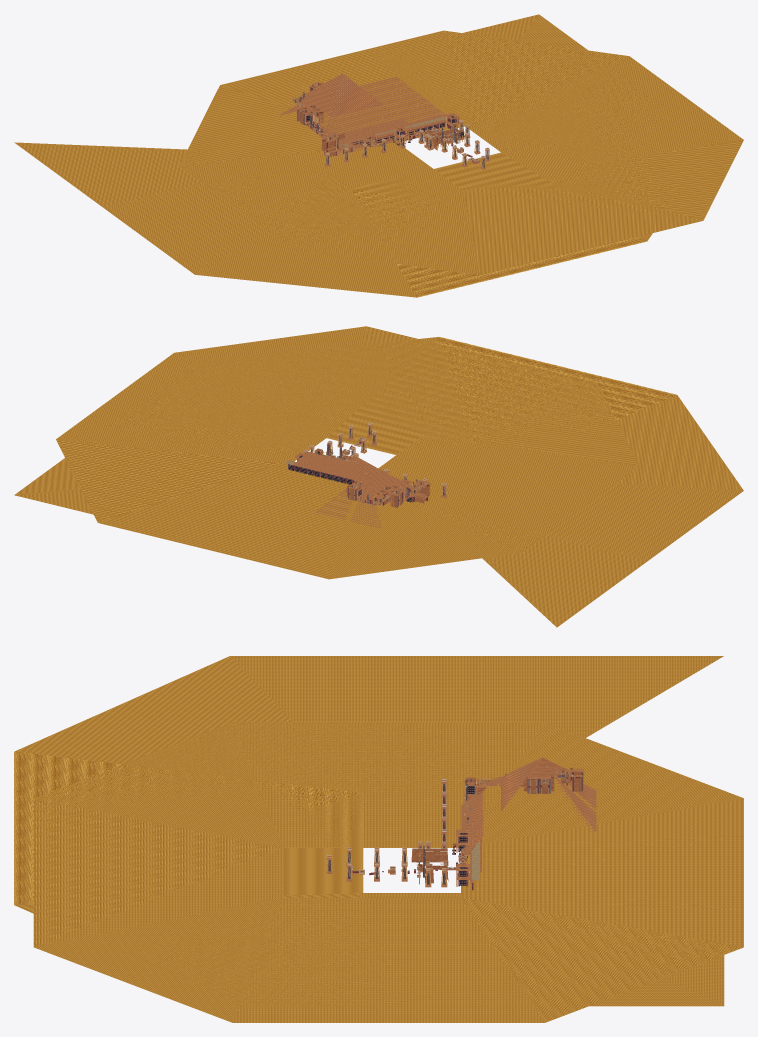
Rendered from HiddenBase.obj.
3 views of the same model, one above another, from view 1: azimuth 30°, elevation 25°; view 2: azimuth 150°, elevation 25°; view 3: azimuth 270°, elevation 25° (orthographic). The views are drawn at different scales.
Size of the model in its own units: 22000 by 2060 by 18500.
30 materials, 30 textured.
